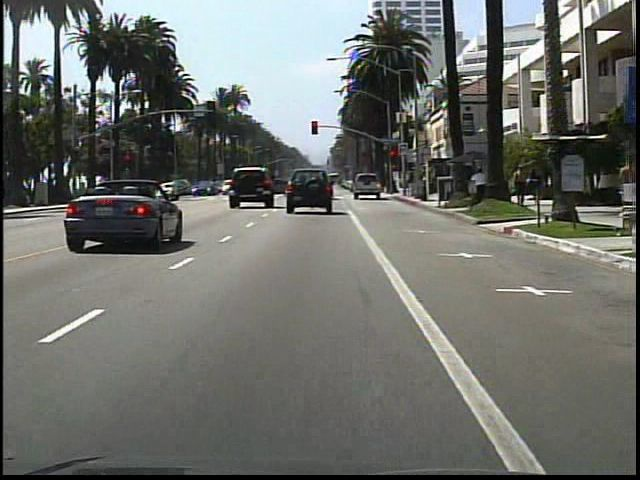person: (469, 165, 491, 206), (510, 161, 528, 209)
